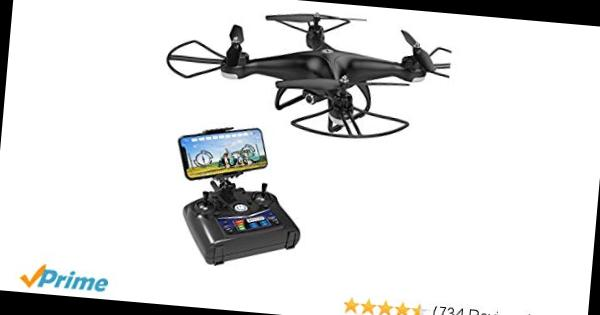drone: (158, 0, 467, 161)
